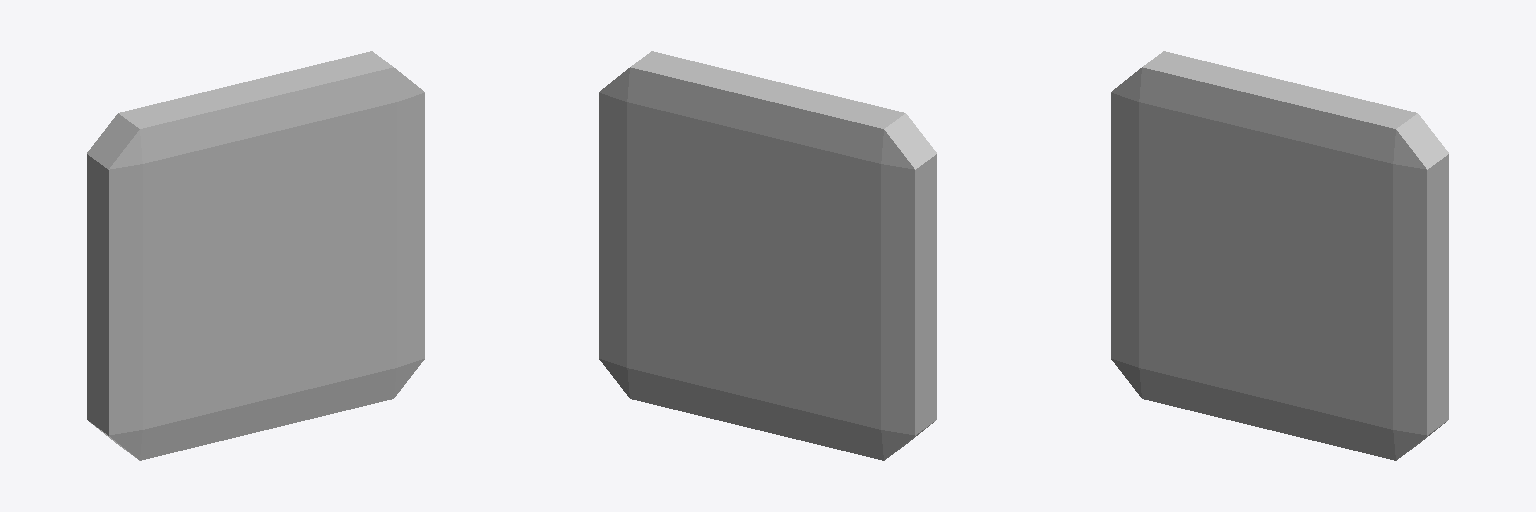
File: wall.obj
The picture shows the model from 3 angles: view 1: azimuth 30°, elevation 25°; view 2: azimuth 150°, elevation 25°; view 3: azimuth 330°, elevation 25°; orthographic projection.
Visible parts, largest first — view 1: pasted__pasted__pasted__pasted__pCube1 pasted__pasted__pasted__g; view 2: pasted__pasted__pasted__pasted__pCube1 pasted__pasted__pasted__g; view 3: pasted__pasted__pasted__pasted__pCube1 pasted__pasted__pasted__g.
Part boxes in pixels (bbox=[...]): pasted__pasted__pasted__pasted__pCube1 pasted__pasted__pasted__g: bbox=[87, 51, 424, 460]; pasted__pasted__pasted__pasted__pCube1 pasted__pasted__pasted__g: bbox=[599, 51, 936, 460]; pasted__pasted__pasted__pasted__pCube1 pasted__pasted__pasted__g: bbox=[1111, 51, 1448, 460].
Size of the model in its own units: 1 by 1 by 0.15.